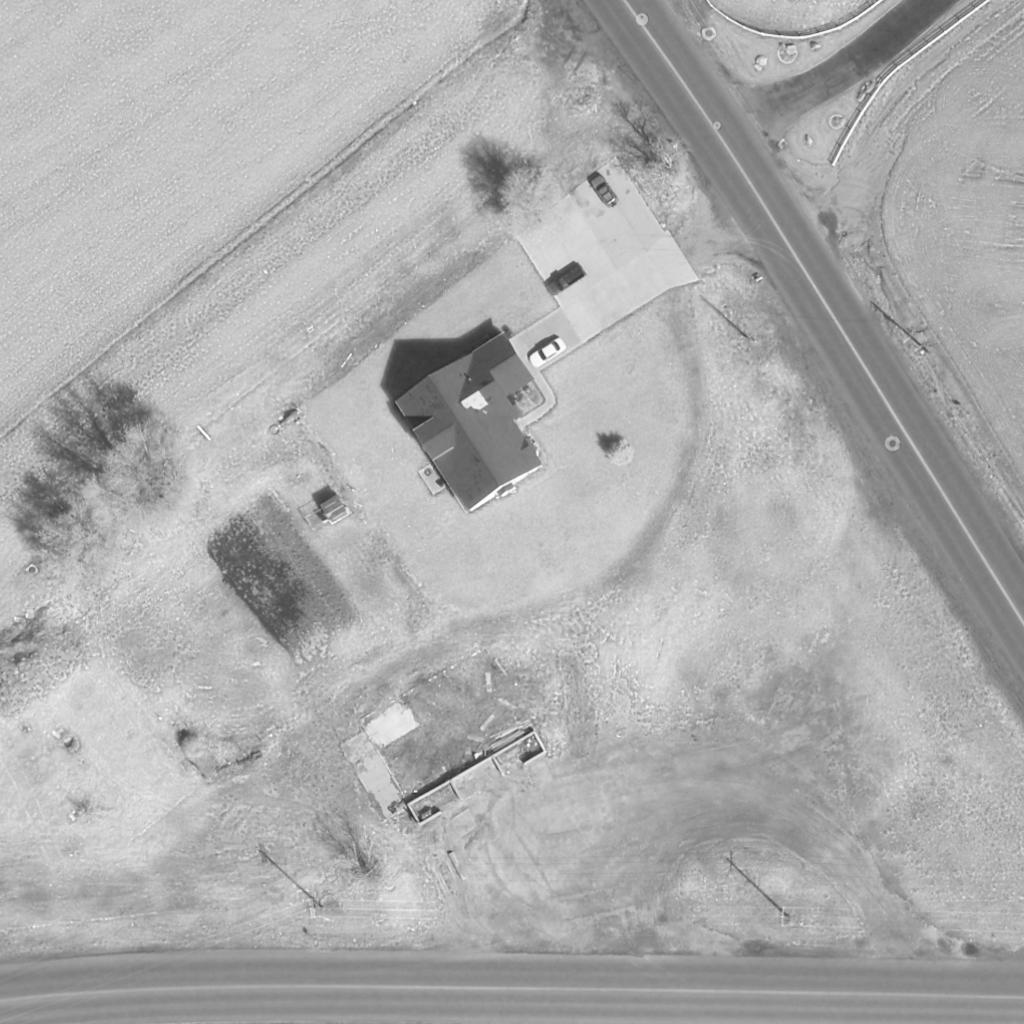vehicle: (543, 262, 587, 298), (528, 336, 568, 368), (587, 172, 619, 208)
